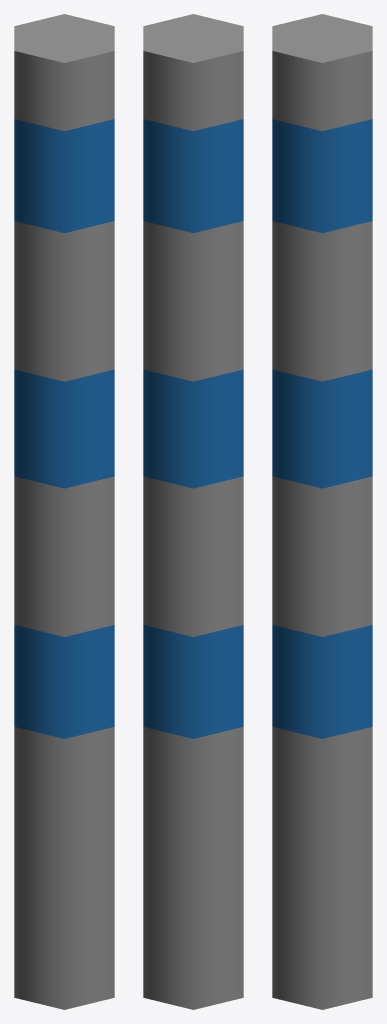
The model's file is lightpole 1.fbx.
3 views of the same model, side by side, from view 1: azimuth 90°, elevation 25°; view 2: azimuth 210°, elevation 25°; view 3: azimuth 270°, elevation 25° (orthographic).
Parts seen in each view (by area): view 1: lightpoles; view 2: lightpoles; view 3: lightpoles.
Part boxes in pixels (left/top/right/bottom): lightpoles: left=14, top=14, right=114, bottom=1009; lightpoles: left=143, top=14, right=243, bottom=1009; lightpoles: left=272, top=14, right=372, bottom=1009.
Size of the model in its own units: 0.1377 by 1.24 by 0.1192.
